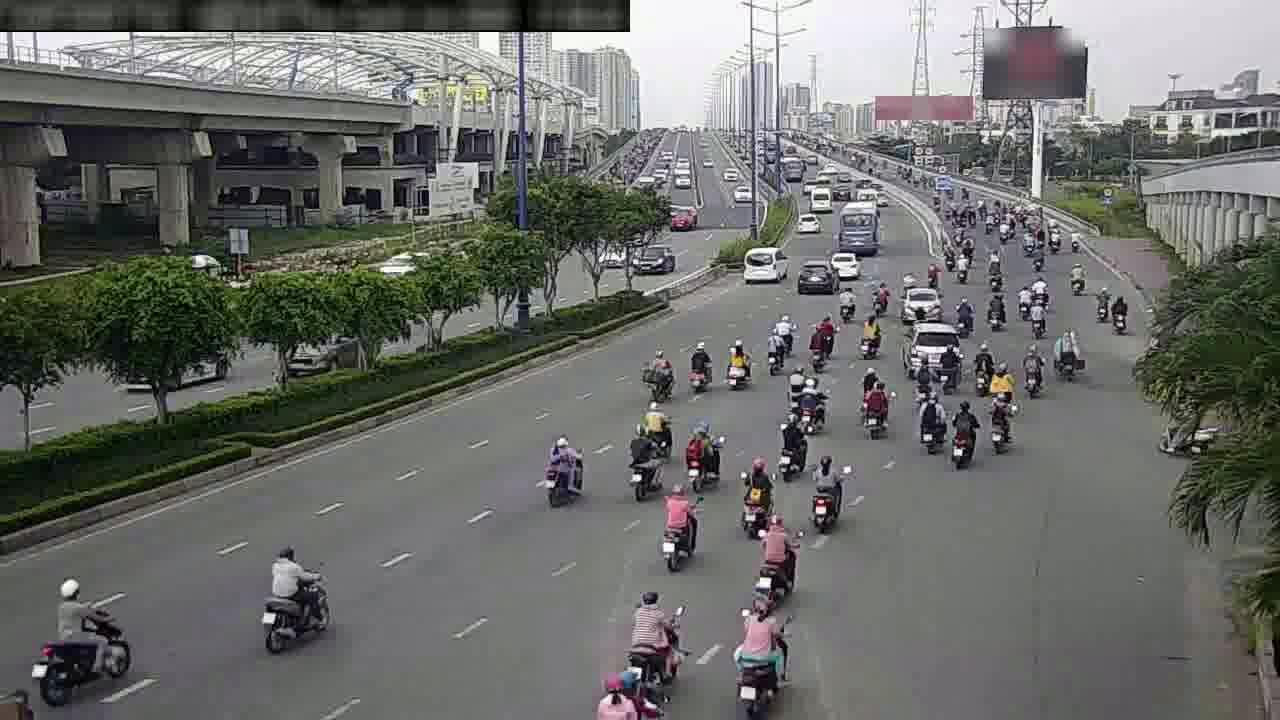14: (740, 242, 784, 285)
container: (906, 317, 962, 371), (794, 257, 837, 295), (903, 286, 939, 325), (826, 247, 864, 280)
motorbike: (40, 576, 143, 695), (254, 549, 339, 656), (621, 584, 685, 688), (729, 601, 792, 704), (536, 426, 590, 507), (654, 483, 702, 565), (801, 453, 846, 532), (752, 517, 798, 594), (678, 418, 724, 491), (620, 429, 665, 502), (733, 458, 776, 534), (771, 411, 810, 479), (855, 373, 893, 437), (944, 401, 978, 466), (981, 391, 1015, 454), (638, 395, 675, 452), (796, 375, 830, 429), (681, 339, 713, 394), (915, 396, 947, 451), (1050, 327, 1083, 380), (645, 347, 677, 399), (721, 337, 751, 391), (1018, 347, 1048, 396), (853, 312, 881, 359), (969, 348, 997, 395), (804, 321, 831, 368), (948, 292, 976, 334), (782, 354, 809, 397), (912, 362, 939, 405), (833, 282, 861, 323), (990, 362, 1016, 406), (935, 343, 961, 387), (982, 290, 1009, 332), (764, 328, 788, 374), (1064, 262, 1089, 300), (1028, 296, 1050, 336), (1110, 291, 1131, 332), (869, 275, 891, 313), (774, 310, 797, 346), (1031, 274, 1055, 308), (982, 257, 1005, 291), (920, 258, 943, 291), (950, 250, 971, 285)
